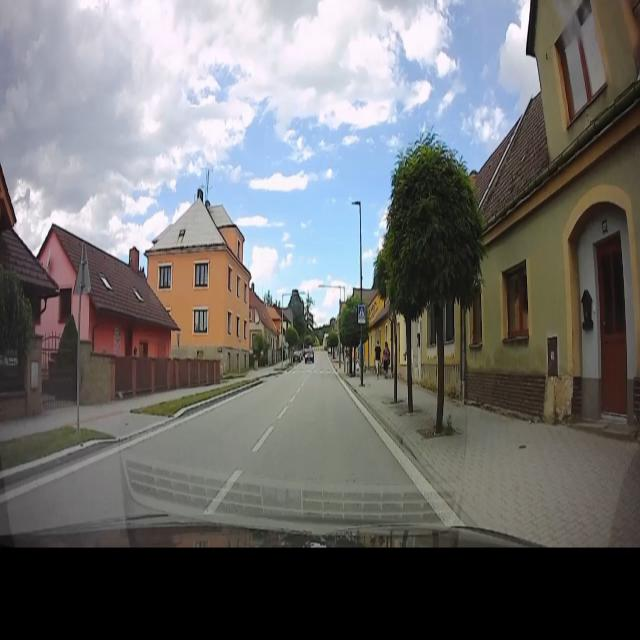Pedestrian crosswalk: (287, 366, 337, 378), (358, 304, 366, 318)
Person: (383, 336, 391, 381), (374, 338, 382, 378)
